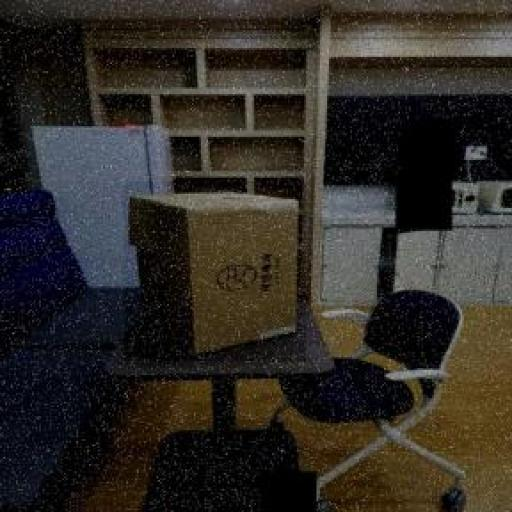box: (124, 181, 306, 361)
